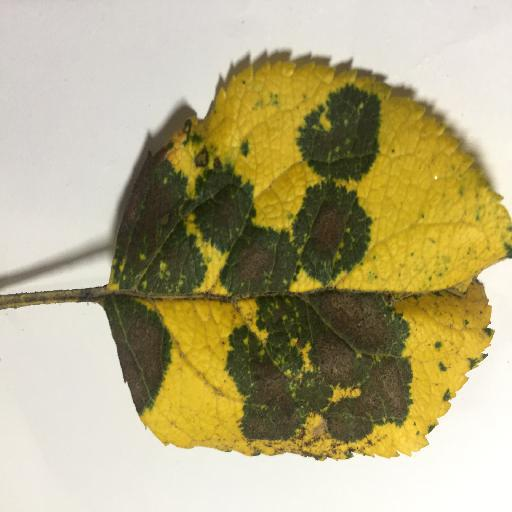Brown_Spot: (190, 299, 412, 443), (115, 304, 170, 403), (127, 159, 176, 238), (302, 205, 346, 260), (233, 247, 269, 293), (209, 182, 236, 234)
